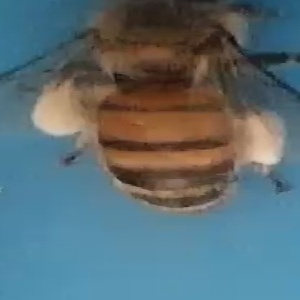bee: (7, 1, 300, 217)
